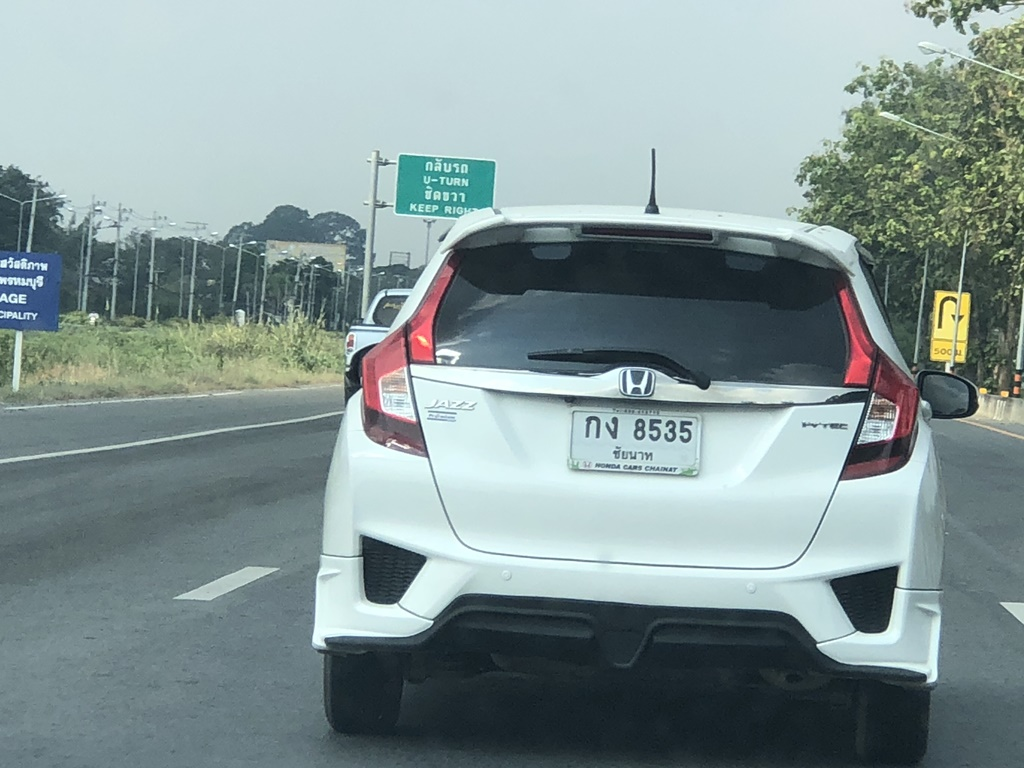plate: (558, 399, 711, 487)
